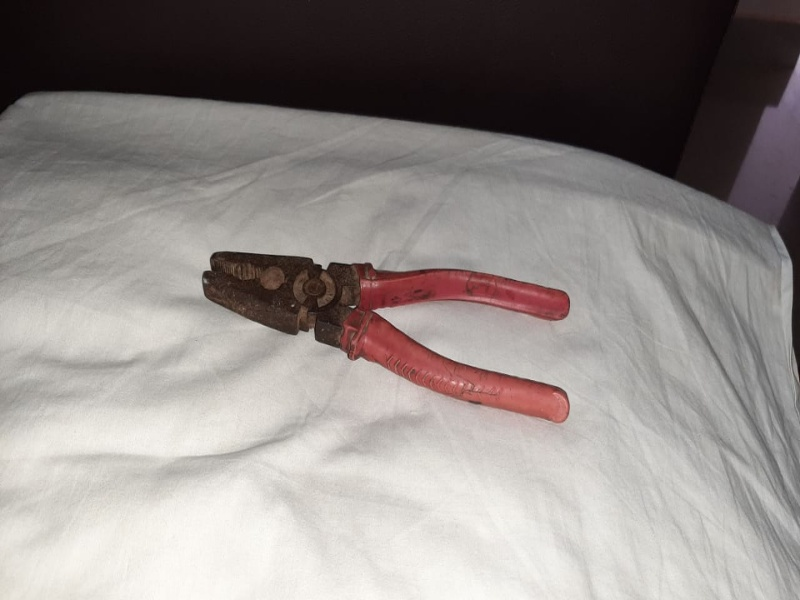cuttingplier: (191, 240, 587, 440)
